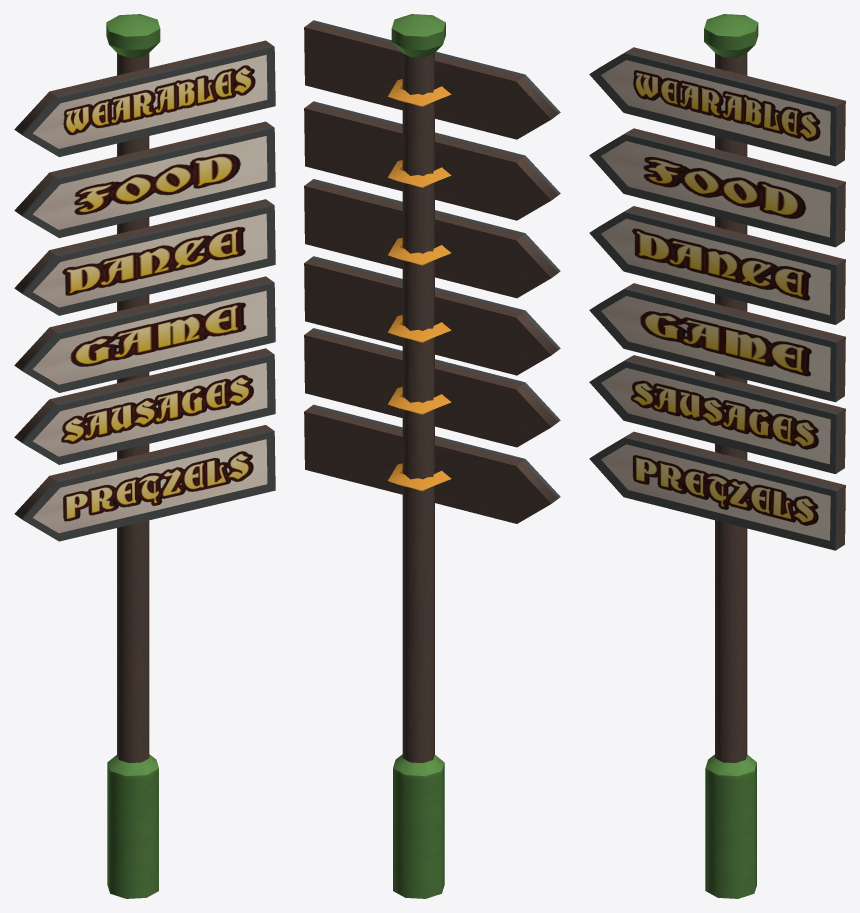
The model's file is SignPost.glb.
3 renders of one model, left to right at view 1: azimuth 30°, elevation 25°; view 2: azimuth 150°, elevation 25°; view 3: azimuth 330°, elevation 25°, orthographic.
Visible parts, largest first — view 1: SignPost; view 2: SignPost; view 3: SignPost.
Boxes of the visible parts, x1,y1,x2,y2 form: SignPost: (14,14,275,898); SignPost: (304,14,560,898); SignPost: (589,14,845,898).
Size of what is drawn, in the model's own units: 0.9968 by 3.32 by 0.2285.
Materials: 4 (4 with a texture image).
